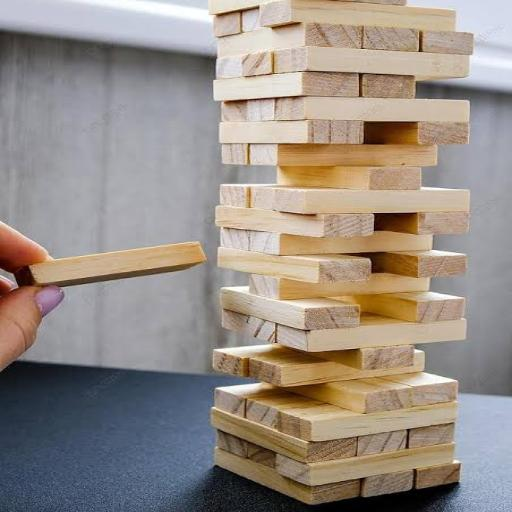mainan blok: (205, 0, 485, 506)
